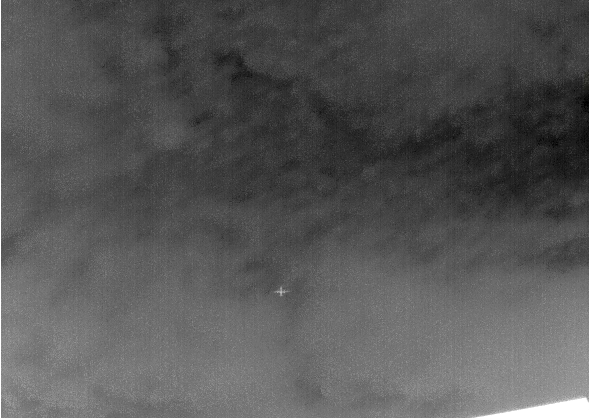dim target: (273, 286, 289, 298)
